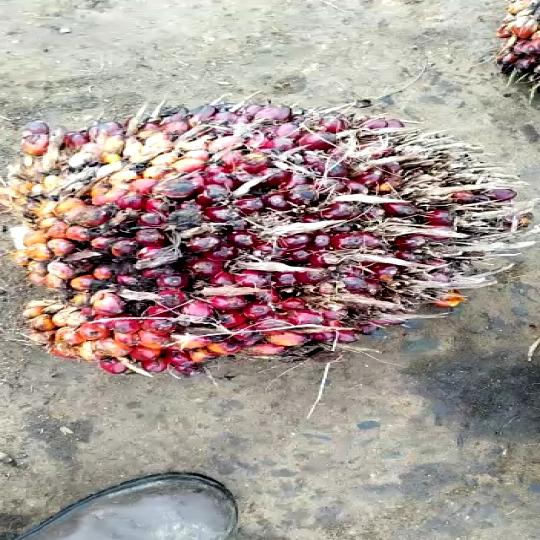masak: (0, 92, 526, 408)
